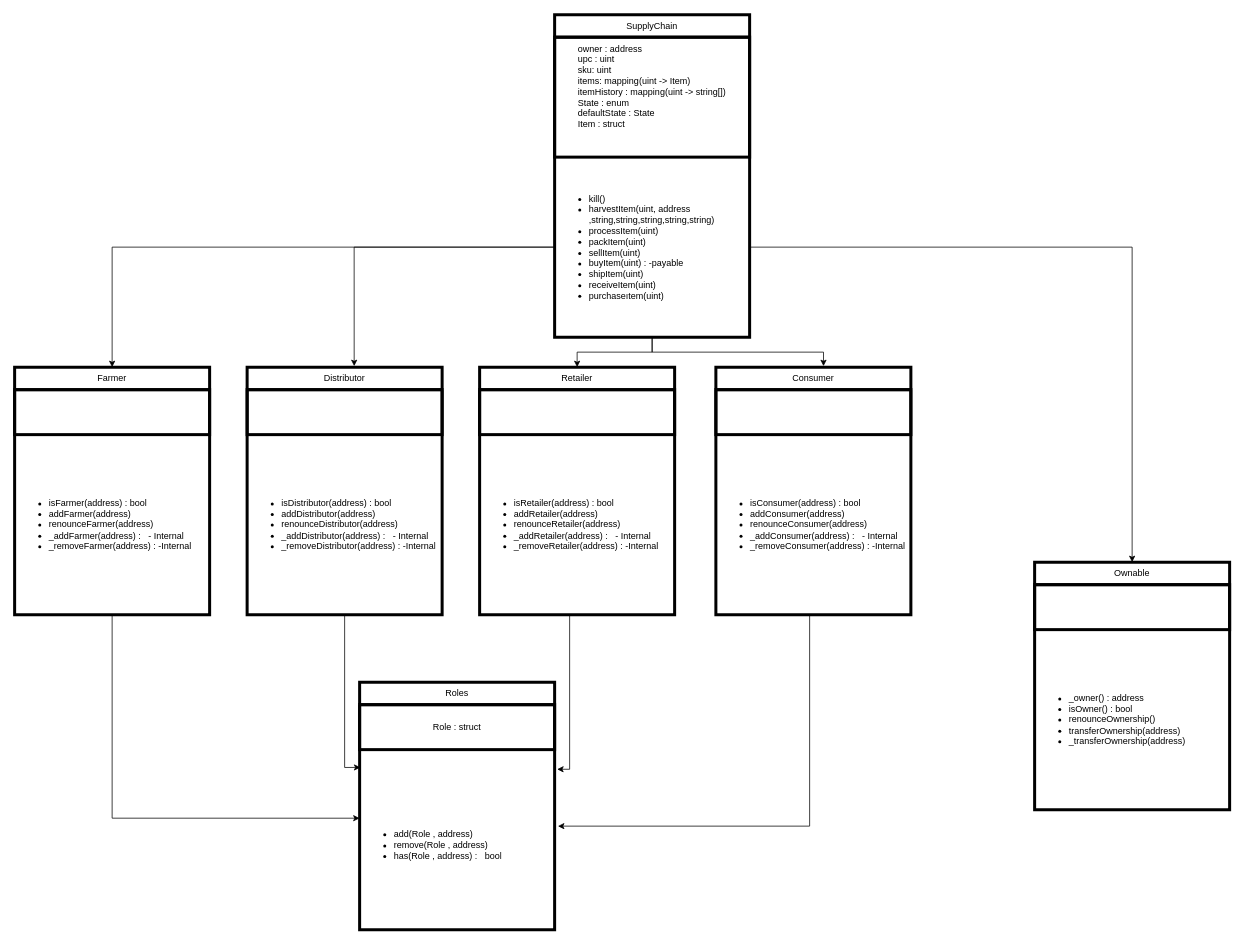
This 1244x944 diagram has some shape labels left out. Each missing label, with the centre of its shape:
"consumers : Role" goes at point 813,412.
"distributors : Role" goes at point 344,412.
"farmers : Role" goes at point 112,412.
"origOwner : address" goes at point 1132,607.
"retailers : Role" goes at point 577,412.
